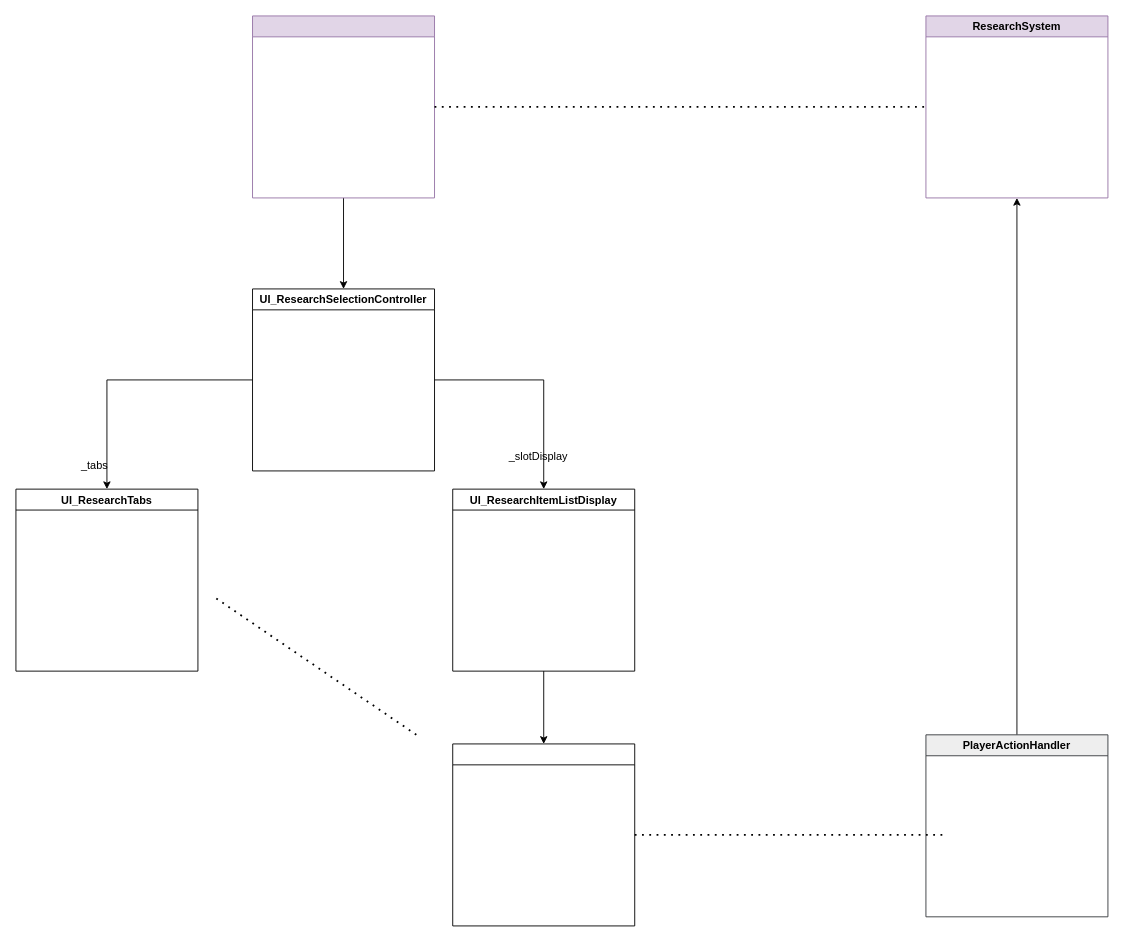
This 1124x942 diagram has some shape labels left out. The centre of each missing label's shape, as x and y in pixels:
Research Monitor: (343,106)
UI_ResearchDetails: (543,834)
